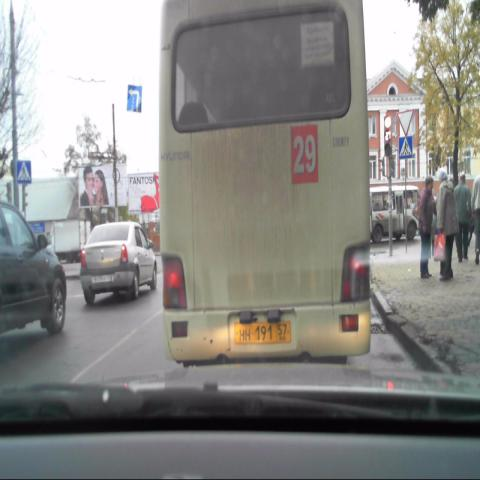2_4: (396, 109, 413, 136)
5_15_2: (126, 82, 142, 110)
5_19_1: (396, 137, 412, 159), (16, 159, 30, 182)
